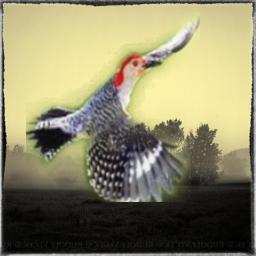Woodpecker: (26, 12, 200, 202)
